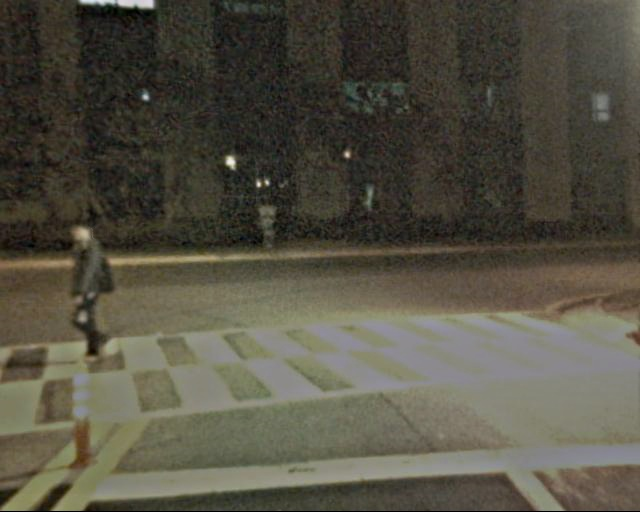person: (57, 220, 125, 369)
